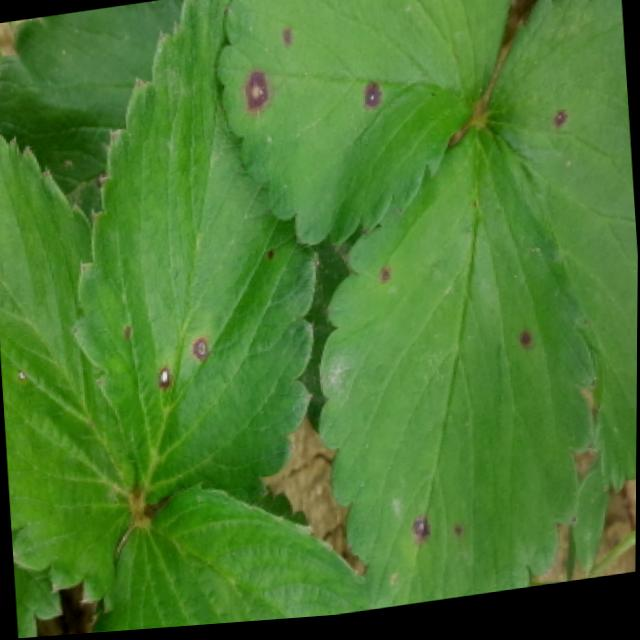Leaf Spot: (313, 122, 600, 614), (70, 0, 317, 506), (476, 0, 638, 500), (213, 0, 512, 253), (0, 131, 143, 609), (92, 489, 381, 634)
